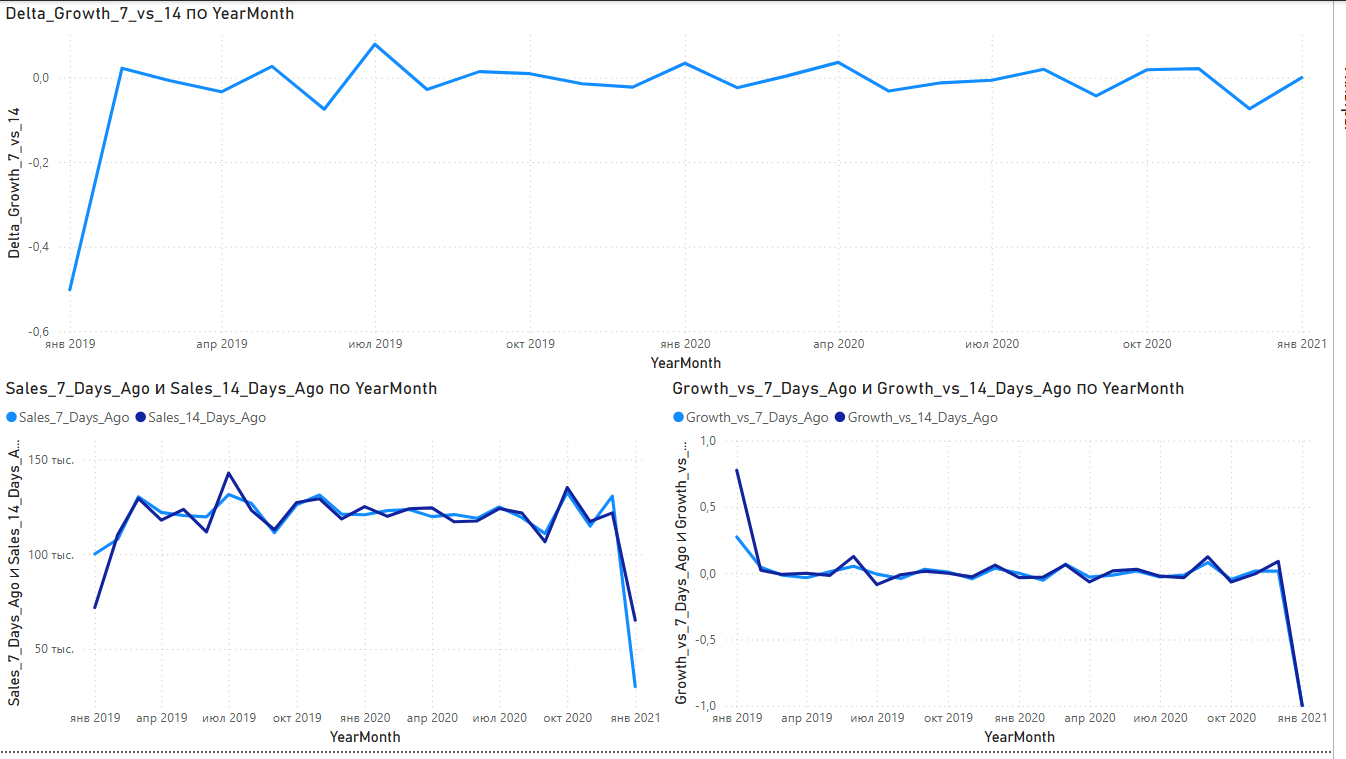

The dashboard page shown, as its layout file describes it:
{"tool":"powerbi","page":{"name":"Страница 1","canvas":[1280,720],"ordinal":0},"visuals":[{"type":"lineChart","fields":{"Y":["Calendar.Delta_Growth_7_vs_14"],"Category":["Calendar.YearMonth"]},"box":[0,0,1280,360],"z":0},{"type":"lineChart","fields":{"Y":["Calendar.Sales_7_Days_Ago","Calendar.Sales_14_Days_Ago"],"Category":["Calendar.YearMonth"]},"box":[0,360,640,360],"z":1000},{"type":"lineChart","fields":{"Y":["Calendar.Growth_vs_7_Days_Ago","Calendar.Growth_vs_14_Days_Ago"],"Category":["Calendar.YearMonth"]},"box":[640,360,640,360],"z":2000}]}

Visuals, with their boxes in screenshot pixels (x1, y1, x2, y2), scaled from the page's 1280x720 canvas onto the 1346x759 screenshot:
lineChart - Calendar.Delta_Growth_7_vs_14 x Calendar.YearMonth: crop(0, 0, 1345, 380)
lineChart - Calendar.Sales_7_Days_Ago x Calendar.Sales_14_Days_Ago: crop(0, 380, 673, 758)
lineChart - Calendar.Growth_vs_7_Days_Ago x Calendar.Growth_vs_14_Days_Ago: crop(673, 380, 1345, 758)
